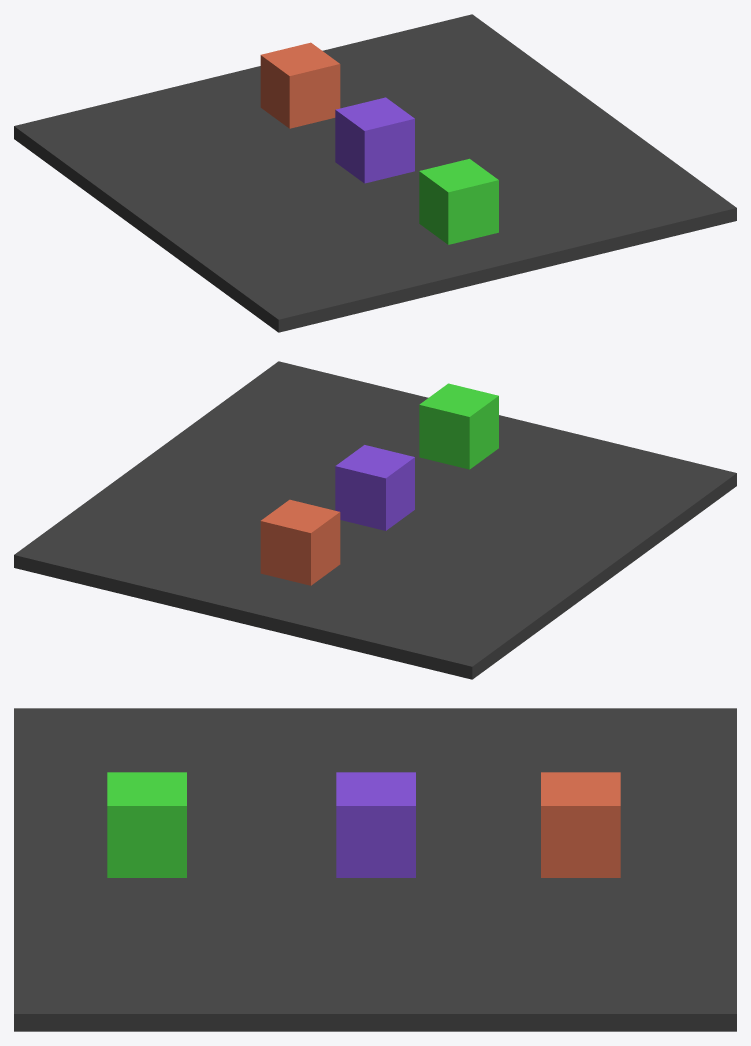
The model's file is Joined.fbx.
The picture shows the model from 3 angles, top to bottom: view 1: azimuth 30°, elevation 25°; view 2: azimuth 150°, elevation 25°; view 3: azimuth 270°, elevation 25°; orthographic projection. The views are drawn at different scales.
Parts seen in each view (by area): view 1: Cube, Cube.001, Cube.002, Cube.003; view 2: Cube, Cube.001, Cube.003, Cube.002; view 3: Cube, Cube.001, Cube.002, Cube.003.
Part boxes in pixels (x1,y1,x2,y2): Cube: [14, 14, 736, 332]; Cube.001: [260, 42, 340, 128]; Cube.002: [335, 97, 414, 183]; Cube.003: [419, 158, 498, 244]; Cube: [14, 361, 736, 679]; Cube.001: [260, 499, 340, 585]; Cube.003: [419, 383, 498, 469]; Cube.002: [335, 445, 414, 530]; Cube: [14, 708, 736, 1031]; Cube.001: [541, 772, 620, 877]; Cube.002: [336, 772, 415, 877]; Cube.003: [107, 772, 186, 877].
Size of the model in its own units: 654 by 89.35 by 654.
